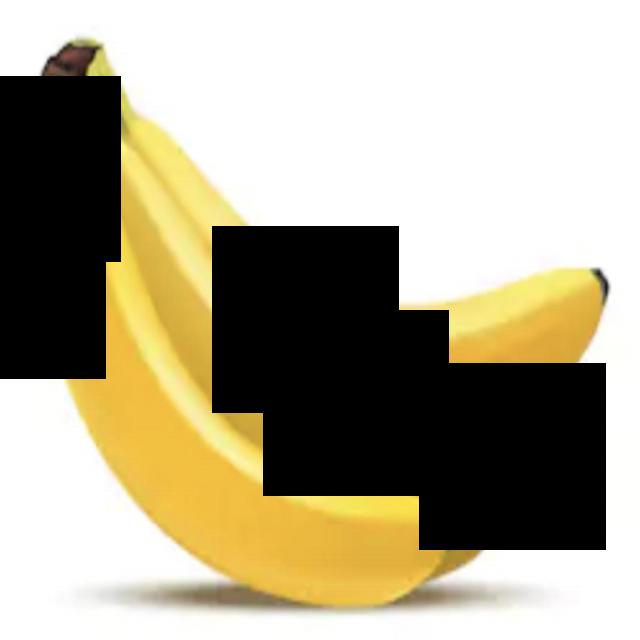banana: (0, 7, 454, 634), (92, 46, 607, 550), (109, 62, 628, 375)
